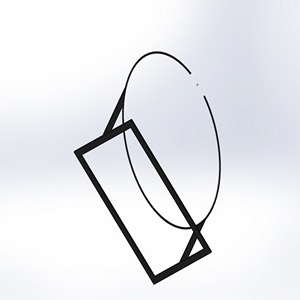circle: (72, 50, 222, 284)
